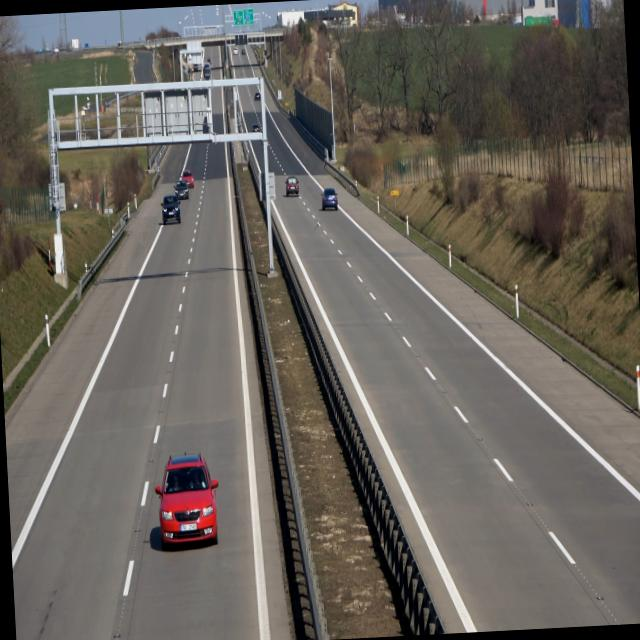Vehicle: (156, 449, 225, 553), (160, 193, 182, 225), (320, 188, 340, 212), (174, 179, 189, 201), (286, 175, 300, 198), (182, 169, 195, 188)
